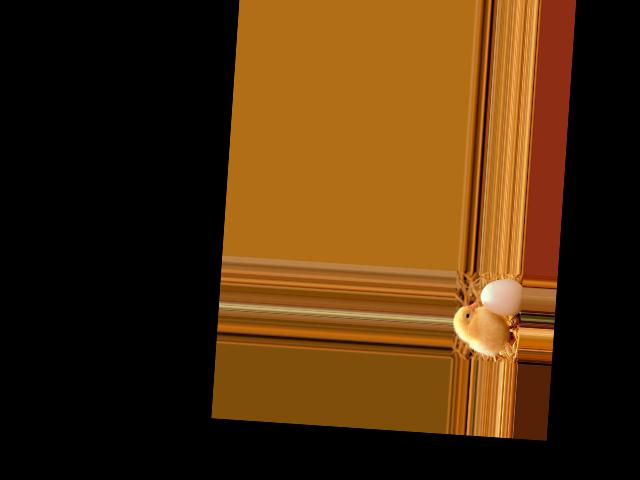egg: (479, 277, 524, 317)
